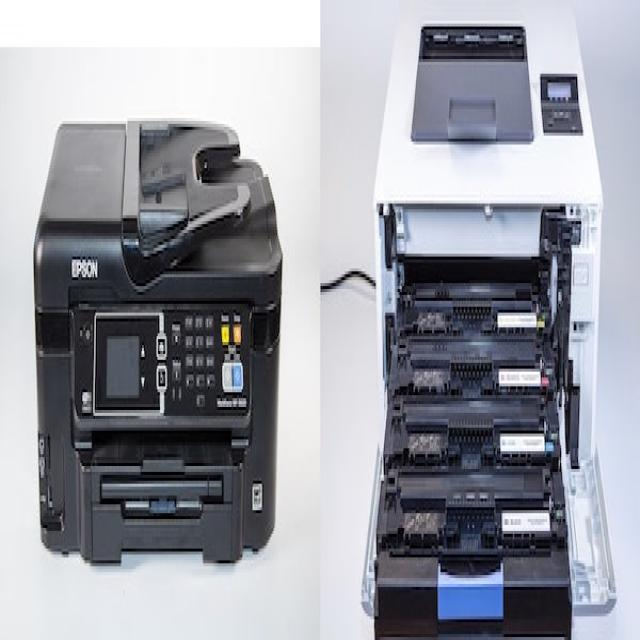printer: (360, 0, 616, 637), (32, 115, 283, 566)
